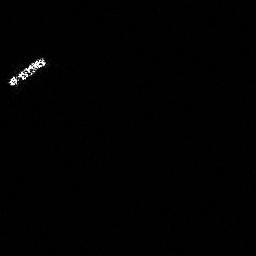ship: (5, 53, 50, 90)
